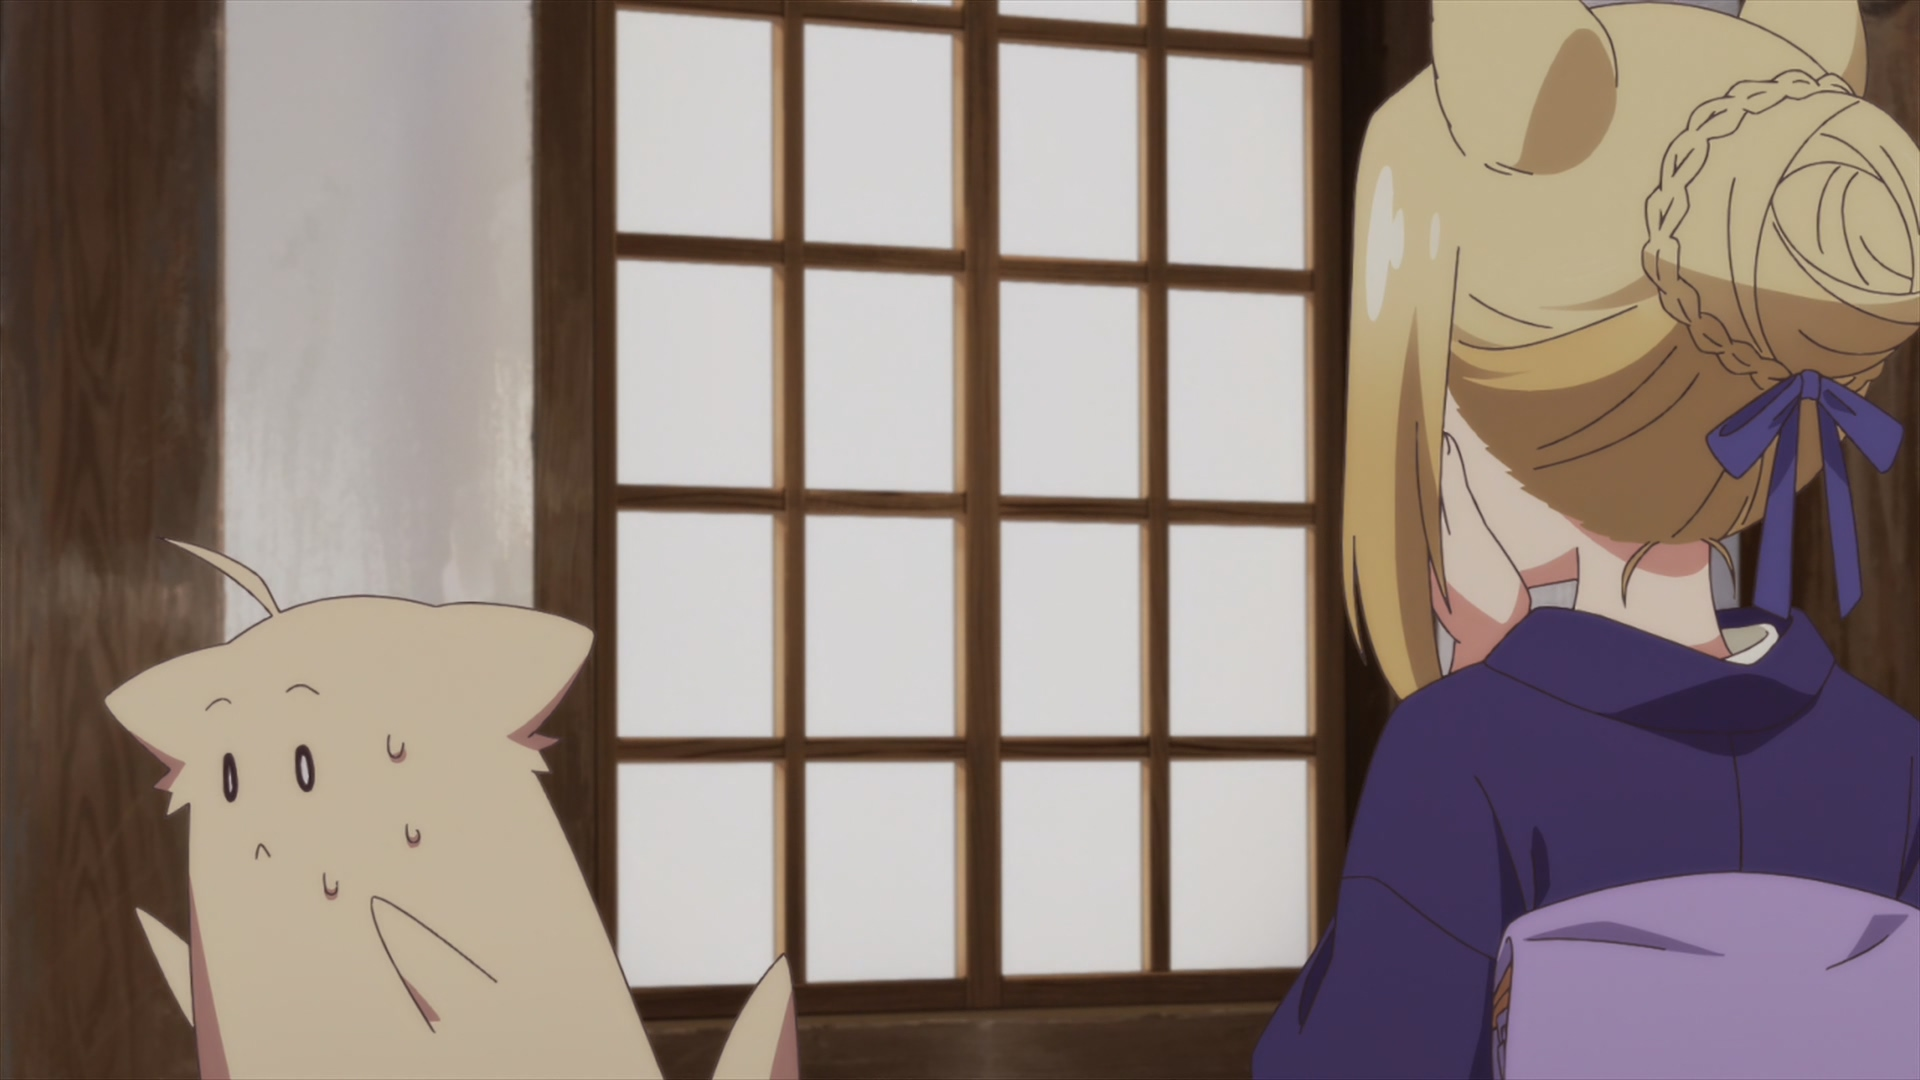柚: (104, 539, 796, 1080)
桐: (1249, 1, 1920, 1080)
